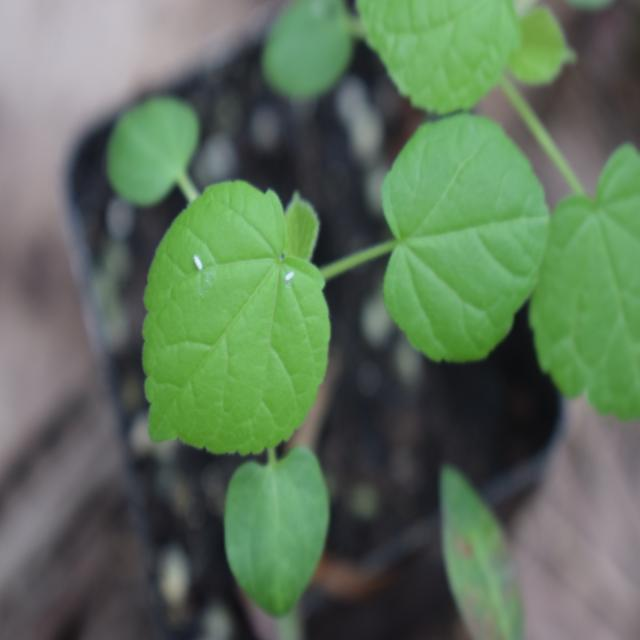abutilon theophrasti: (104, 90, 532, 580)
